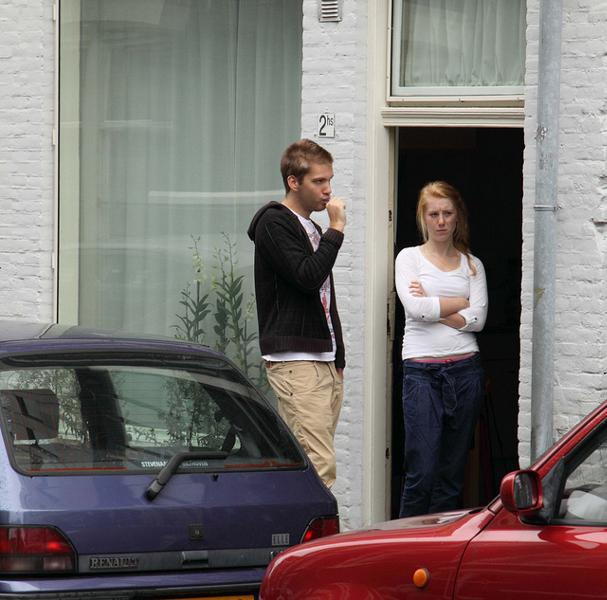person: (250, 138, 349, 493)
